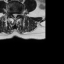CCS_normal: (14, 12, 15, 19)
LFS_severe_stenosis: (17, 11, 19, 17)
LLS_normal: (15, 12, 17, 18)
RFS_severe_stenosis: (10, 11, 12, 16)
RLS_stenosis: (12, 11, 14, 17)
